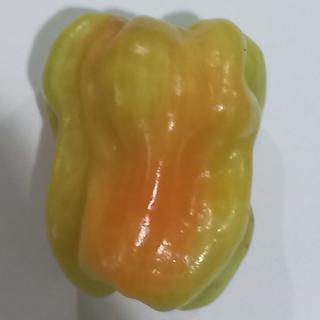Grade-A: (34, 6, 270, 314)
